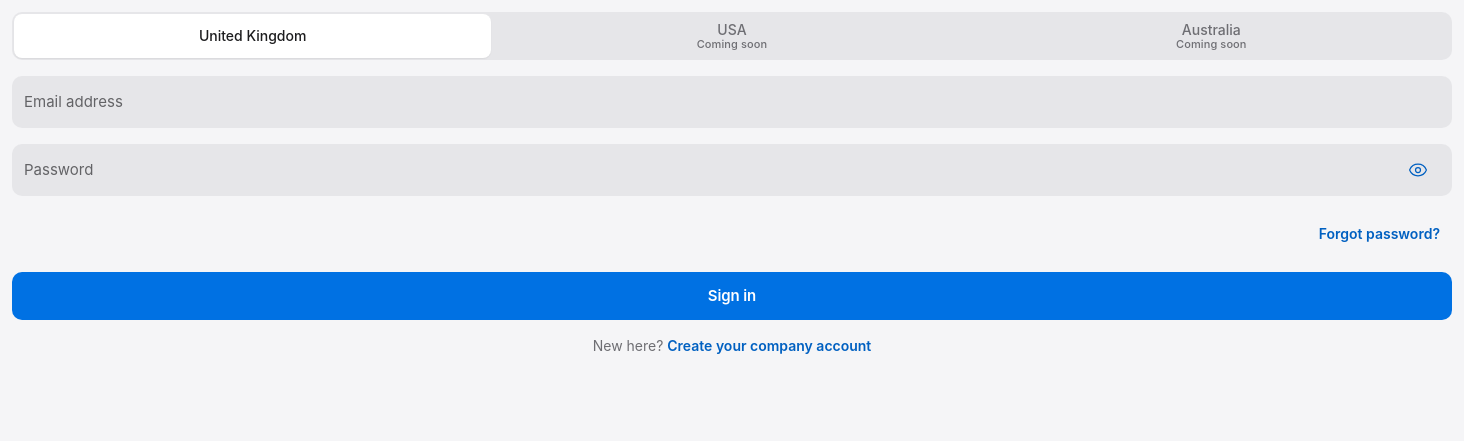
LoginForm › shows the API's message when the sign-in is refused and keeps what was typed
Type "amira@example.com" into the field labelled "Email address" at (706, 102), box [24,76,1388,128]
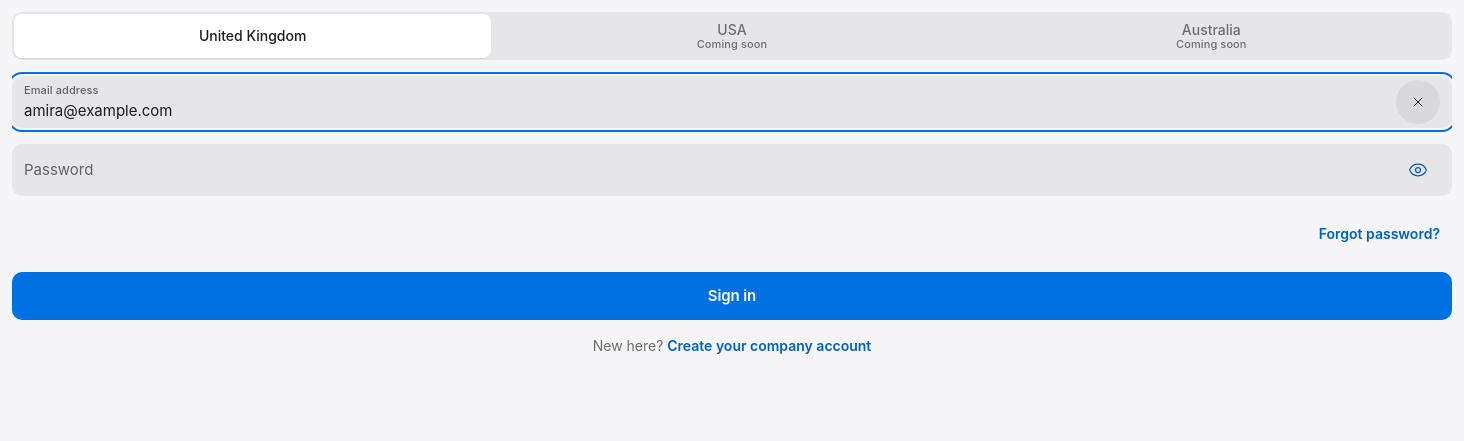
Type "wrong password here" into the password field labelled "Password" at (706, 170), box [24,144,1388,196]
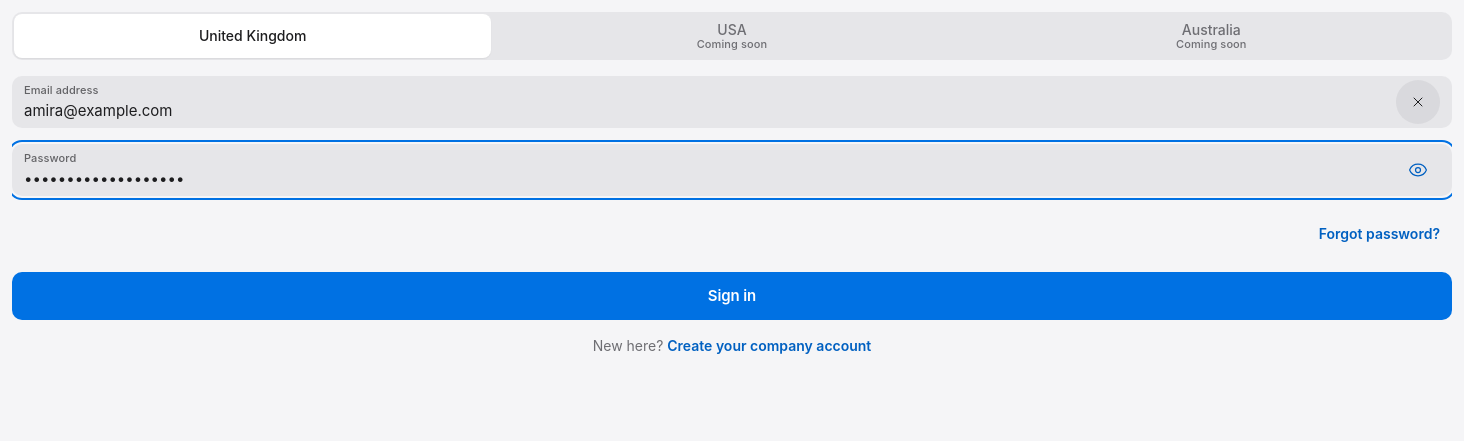
Click the button "Sign in" at (732, 296), box [12,272,1452,320]
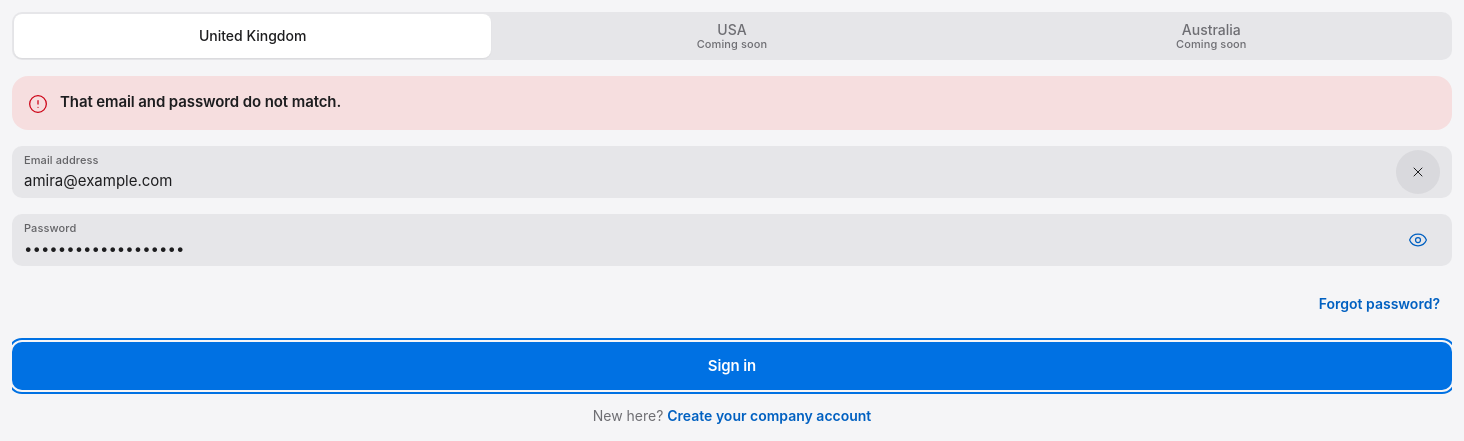
Check: the message reads "That email and password do not match.", box [60,92,341,111]
